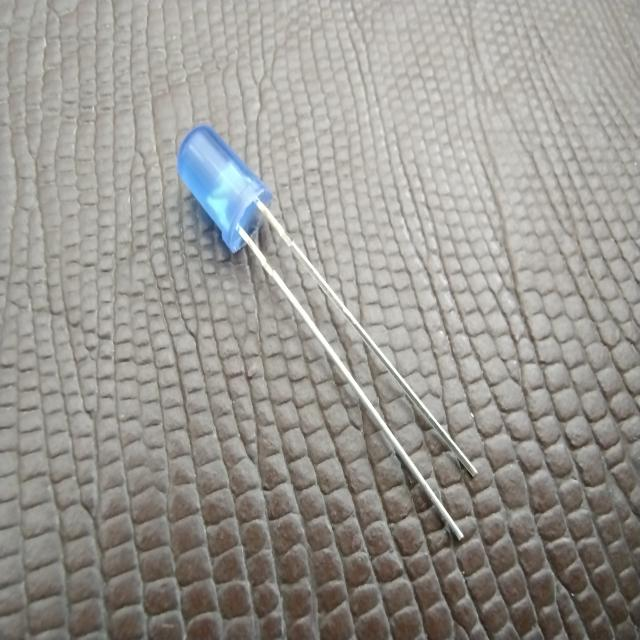blue_led: (176, 122, 273, 255)
